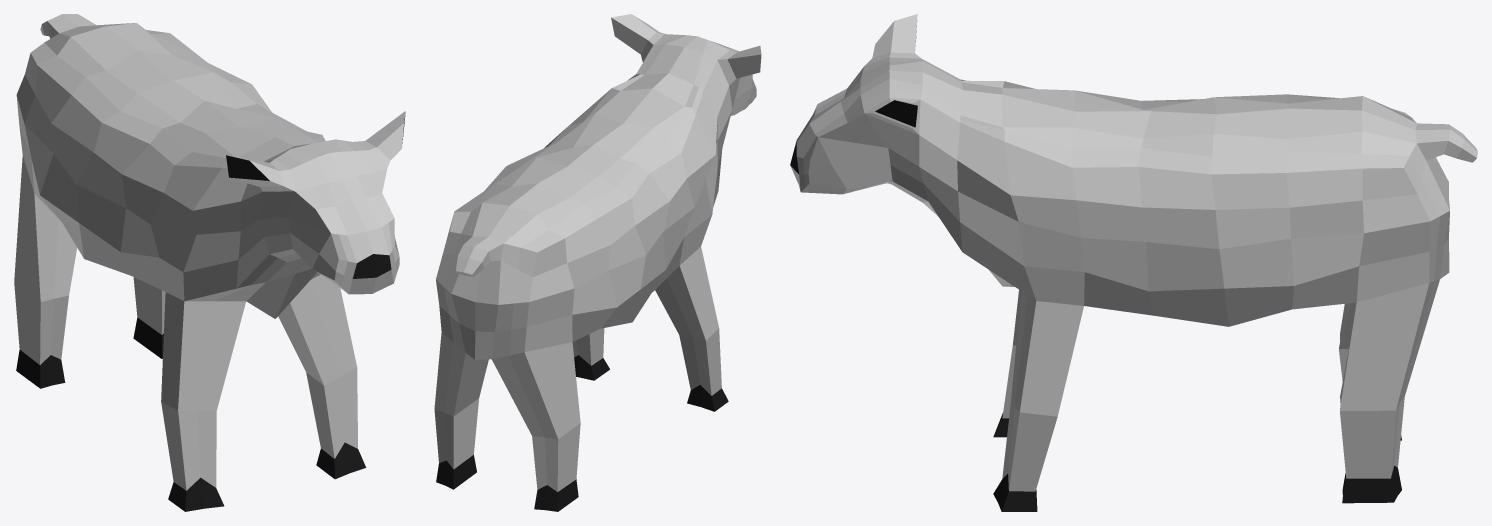
The model's file is Sheep.fbx.
3 renders of one model, left to right at view 1: azimuth 30°, elevation 25°; view 2: azimuth 150°, elevation 25°; view 3: azimuth 270°, elevation 25°, orthographic. The views are drawn at different scales.
Parts seen in each view (by area): view 1: Sheep; view 2: Sheep; view 3: Sheep.
Part boxes in pixels (x1=…): Sheep: x1=14, y1=14, x2=405, y2=511; Sheep: x1=434, y1=14, x2=761, y2=511; Sheep: x1=790, y1=14, x2=1477, y2=511.
Bounding box in the file's own units: 43.33 × 83.25 × 128.
